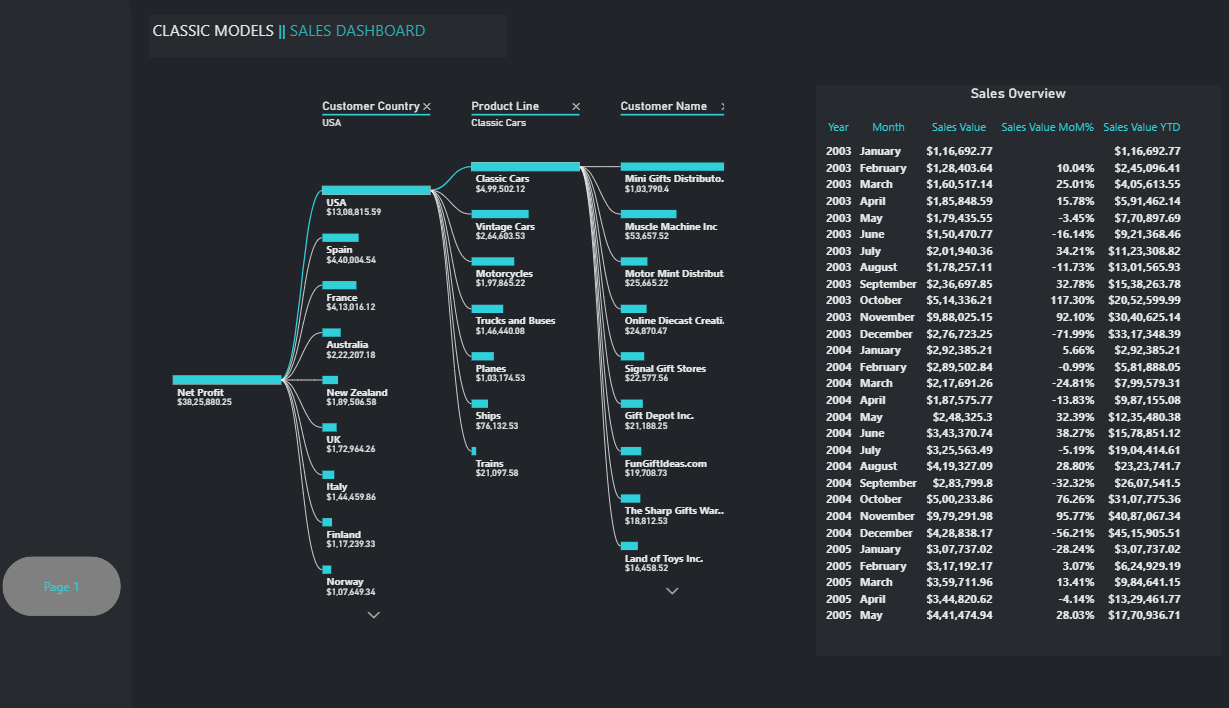

What the dashboard file says about the page in this screenshot:
{"tool":"powerbi","page":{"name":"Sales Contribution Analysis","canvas":[1500,900],"ordinal":1},"visuals":[{"type":"shape","box":[0,0,170,900.5],"z":0},{"type":"decompositionTreeVisual","fields":{"Analyze":["classicmodels sales_data_for_power_bi.Net Profit"],"ExplainBy":["classicmodels sales_data_for_power_bi.customer_country","classicmodels sales_data_for_power_bi.productLine","classicmodels sales_data_for_power_bi.customerName"]},"box":[190,126.7,699.7,689.2],"z":1000},{"type":"textbox","box":[190,42.2,432.8,51.3],"z":2000},{"type":"tableEx","title":"Sales Overview","fields":{"Values":["classicmodels sales_data_for_power_bi.orderdate.Variation.Date Hierarchy.Year","classicmodels sales_data_for_power_bi.orderdate.Variation.Date Hierarchy.Month","Sum(classicmodels sales_data_for_power_bi.sales_value)","Table.Sum of sales_value MoM%","Table.Sum of sales_value YTD"]},"box":[995.3,126.7,488.6,689.2],"z":3000},{"type":"actionButton","box":[13.6,695.2,143.3,72.4],"z":4000}]}

Visuals, with their boxes on the page's 1500x900 design canvas (x1, y1, x2, y2). These are canvas units, not pixel positions in the 1229x708 screenshot, which may show the page scaled, cropped or inside an application window:
shape: (0,0,170,900)
decompositionTreeVisual - classicmodels sales_data_for_power_bi.Net Profit x classicmodels sales_data_for_power_bi.customer_country: (190,127,890,816)
textbox: (190,42,623,94)
"Sales Overview" tableEx: (995,127,1484,816)
actionButton: (14,695,157,768)
